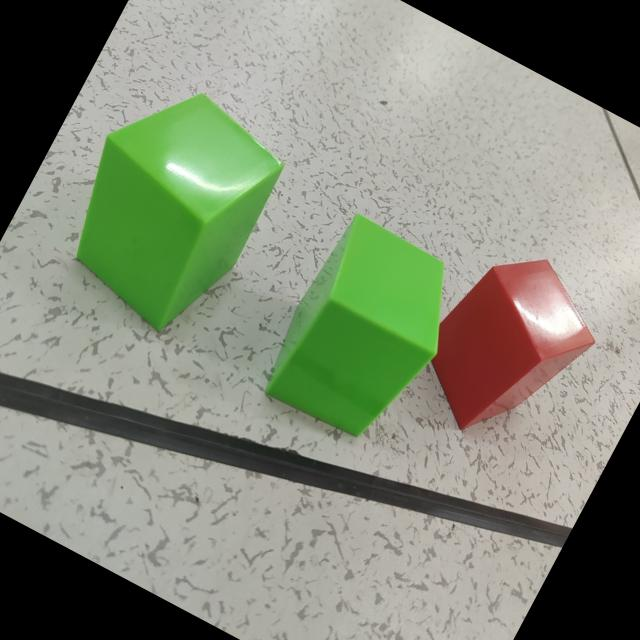green: (73, 94, 282, 332), (263, 214, 443, 439)
red: (429, 261, 594, 431)
